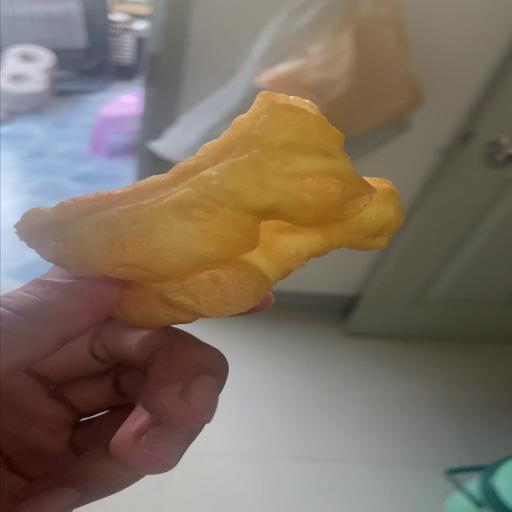street_golden_good: (16, 92, 402, 328)
